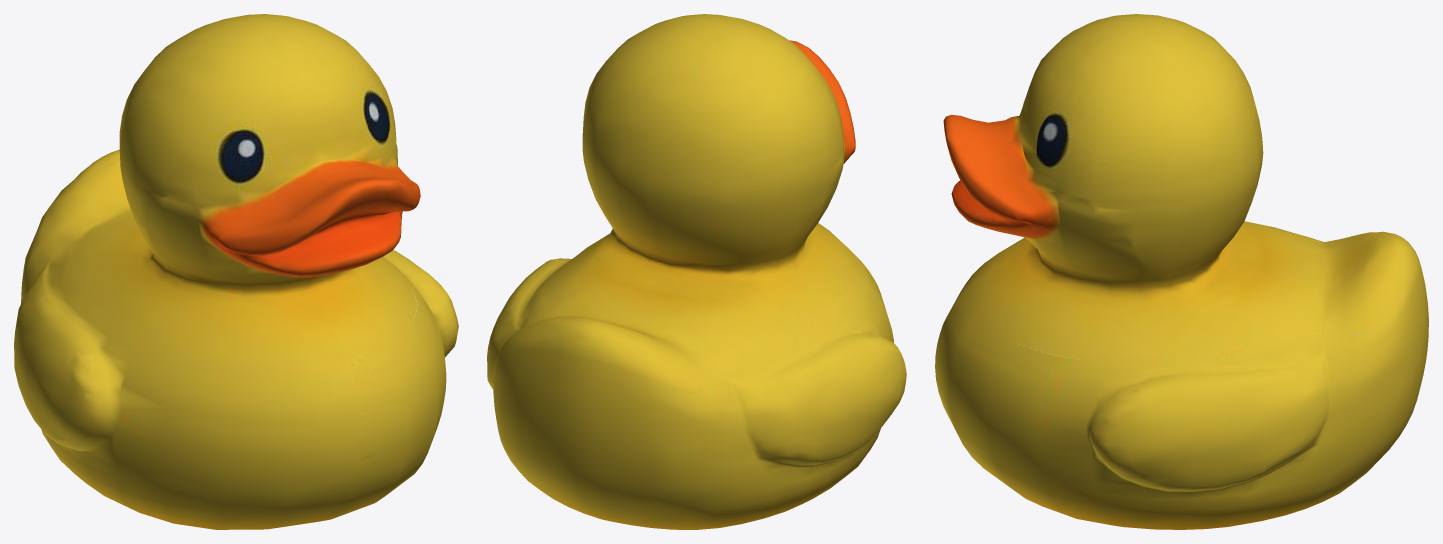
The model's file is duck.glb.
3 views of the same model, side by side, from view 1: azimuth 30°, elevation 25°; view 2: azimuth 150°, elevation 25°; view 3: azimuth 270°, elevation 25° (orthographic). The views are drawn at different scales.
Parts seen in each view (by area): view 1: tripo_node_9c4240d9-2b0d-4d4a-9d4f-0e99f38e1a49; view 2: tripo_node_9c4240d9-2b0d-4d4a-9d4f-0e99f38e1a49; view 3: tripo_node_9c4240d9-2b0d-4d4a-9d4f-0e99f38e1a49.
Boxes of the visible parts, x1,y1,x2,y2 form: tripo_node_9c4240d9-2b0d-4d4a-9d4f-0e99f38e1a49: [14, 14, 458, 529]; tripo_node_9c4240d9-2b0d-4d4a-9d4f-0e99f38e1a49: [487, 14, 906, 529]; tripo_node_9c4240d9-2b0d-4d4a-9d4f-0e99f38e1a49: [935, 14, 1428, 529].
Size of the model in its own units: 0.8901 by 0.9995 by 0.9956.
Materials: 1 (1 with a texture image).
